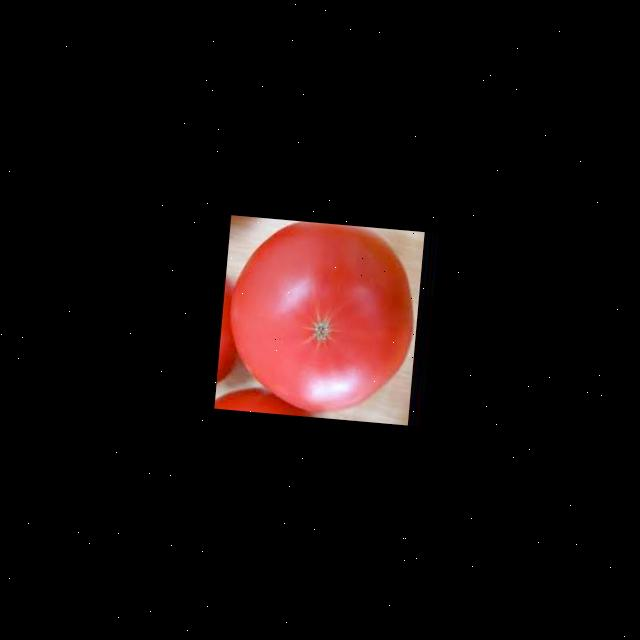tomato: (224, 218, 420, 410)
